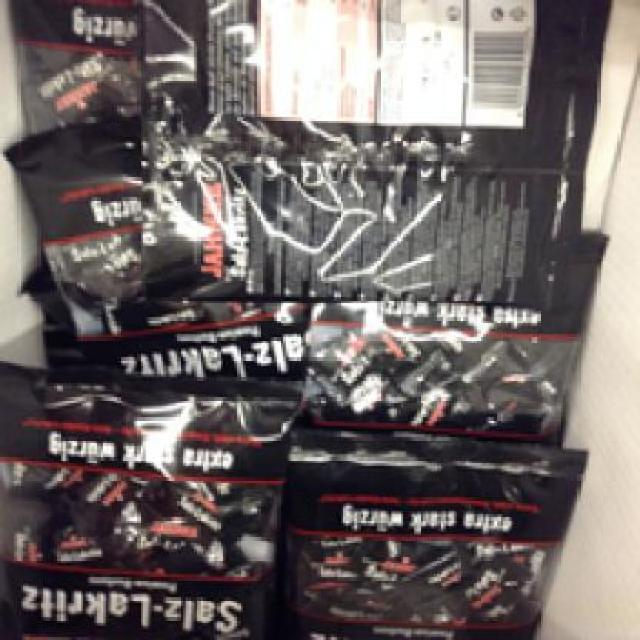Candy: (139, 0, 572, 309), (5, 377, 278, 620), (288, 422, 562, 638)
